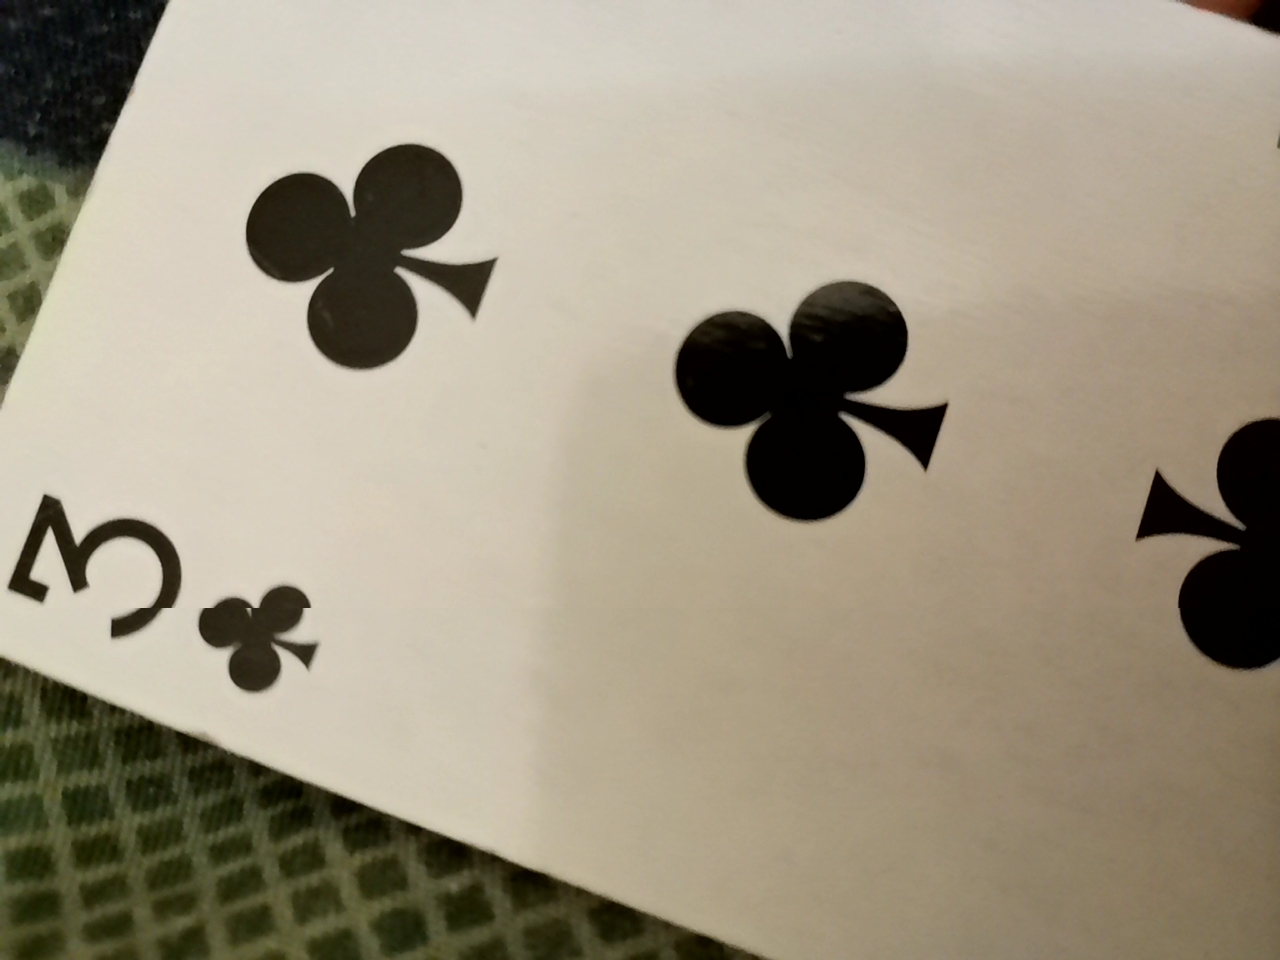mh 3: (0, 7, 1277, 948)
